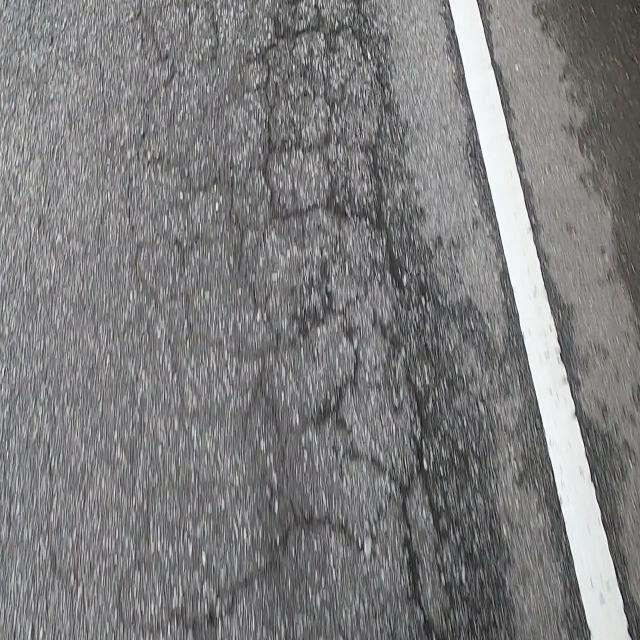Retak-Buaya: (129, 0, 448, 636)
